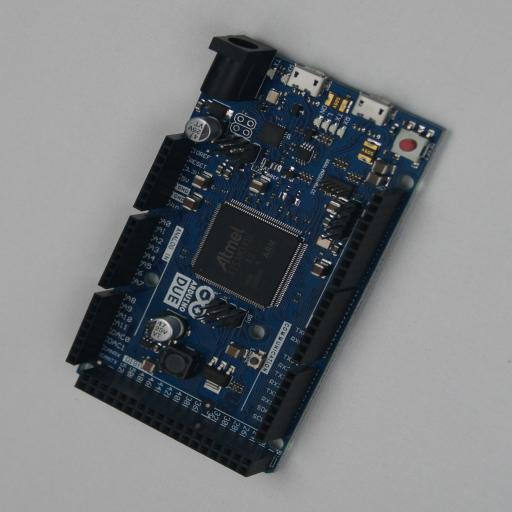Arduino Due: (65, 35, 446, 477)
